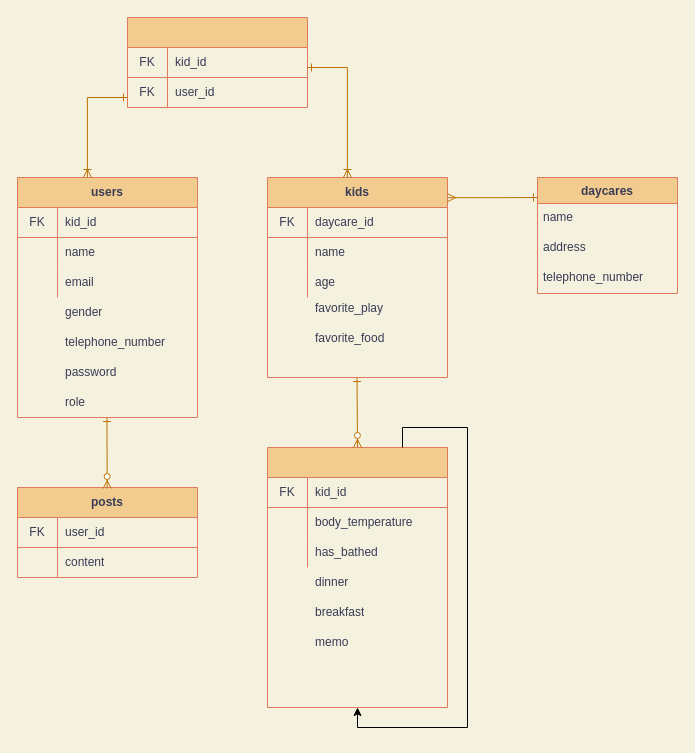
Image size: 695x753. Some labels were removed from this diagram. The box of each missing label's shape, as (x1, y1, x2, y2) in pixels:
kid_users: (126, 16, 308, 108)
notebooks: (266, 446, 448, 708)
